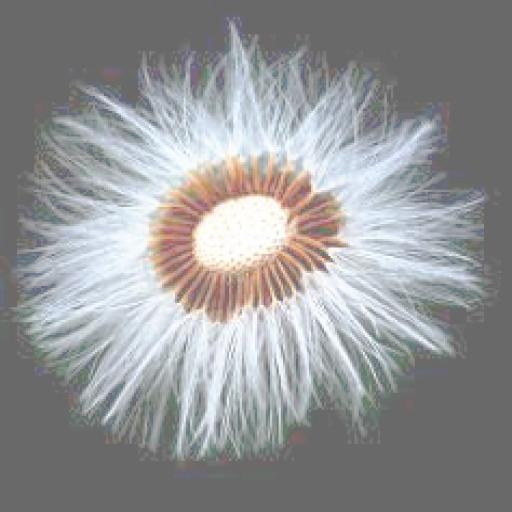dandelion: (26, 38, 510, 442)
